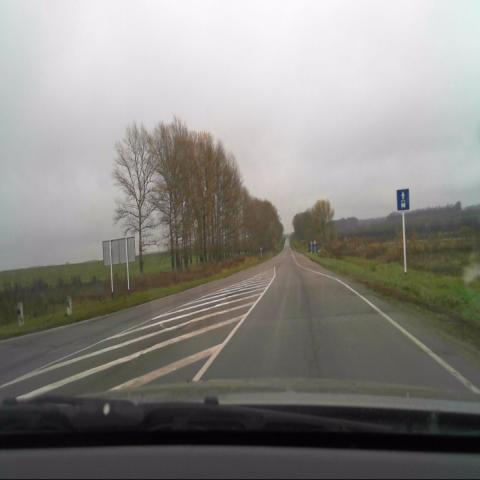5_14: (396, 189, 410, 210)
